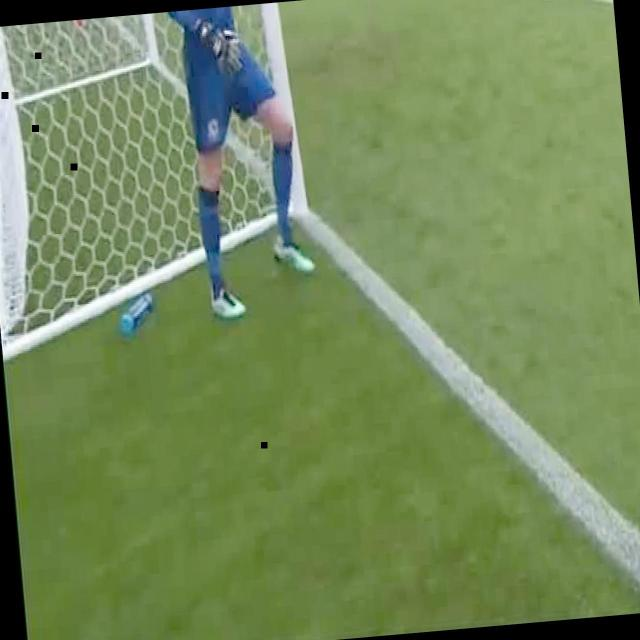player-white: (166, 1, 319, 322), (66, 19, 90, 30)
